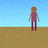person: (29, 7, 39, 31)
